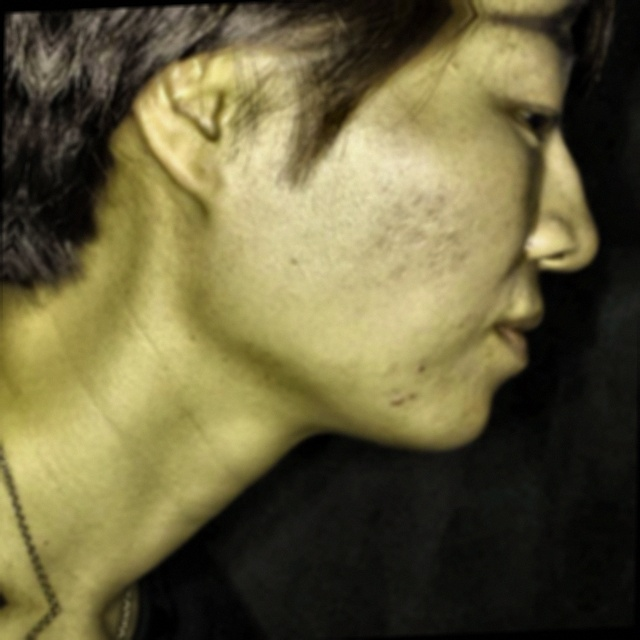comedone: (359, 377, 425, 425)
